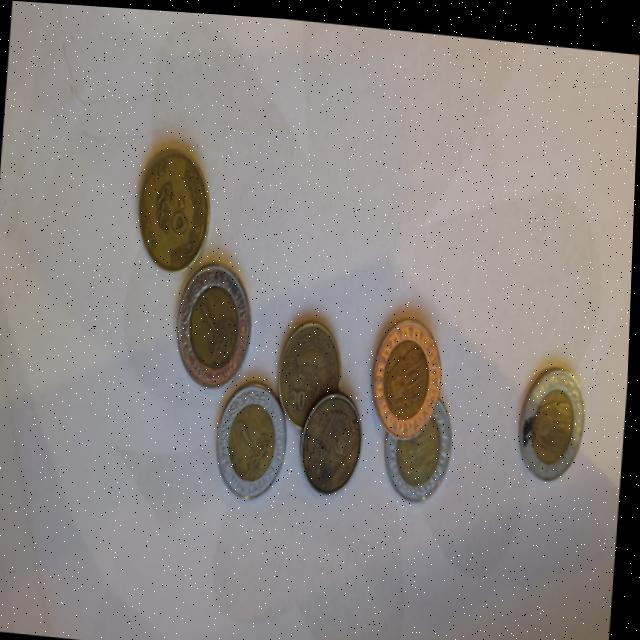Half Pound: (129, 141, 216, 274), (300, 386, 371, 493), (276, 314, 343, 424)
One Pound: (369, 309, 447, 438), (175, 270, 257, 390), (215, 382, 295, 500), (517, 356, 591, 477), (390, 420, 455, 501)
